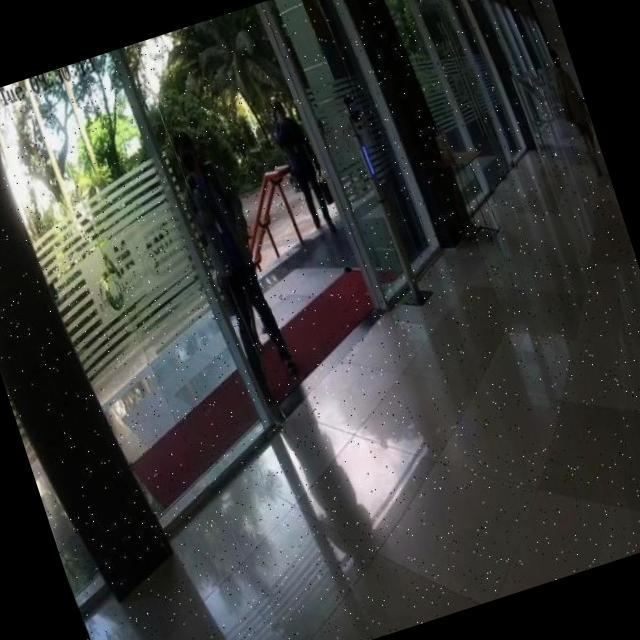person: (164, 121, 306, 406), (264, 95, 346, 243), (542, 42, 608, 180)
